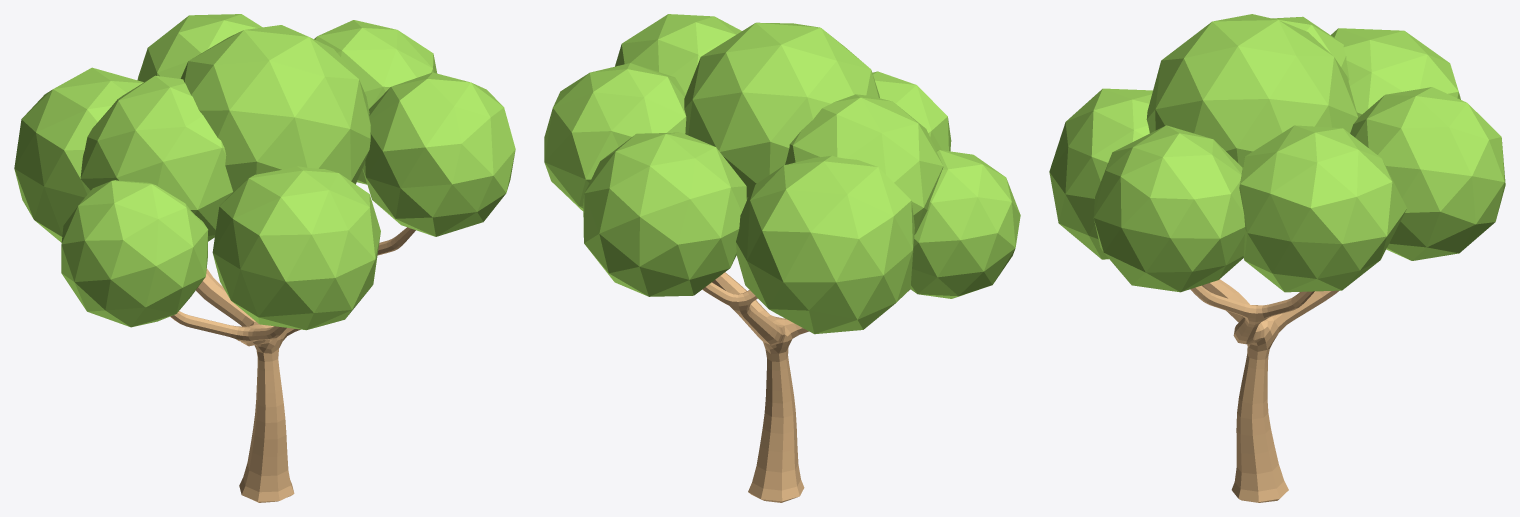
Rendered from Tree5.fbx.
3 views of the same model, side by side, from view 1: azimuth 30°, elevation 25°; view 2: azimuth 150°, elevation 25°; view 3: azimuth 270°, elevation 25° (orthographic).
Visible parts, largest first — view 1: Laubbaum.003; view 2: Laubbaum.003; view 3: Laubbaum.003.
Boxes of the visible parts, x1,y1,x2,y2 form: Laubbaum.003: [14, 14, 515, 502]; Laubbaum.003: [544, 14, 1020, 502]; Laubbaum.003: [1049, 14, 1505, 502].
Bounding box in the file's own units: 1072 × 1139 × 1008.
